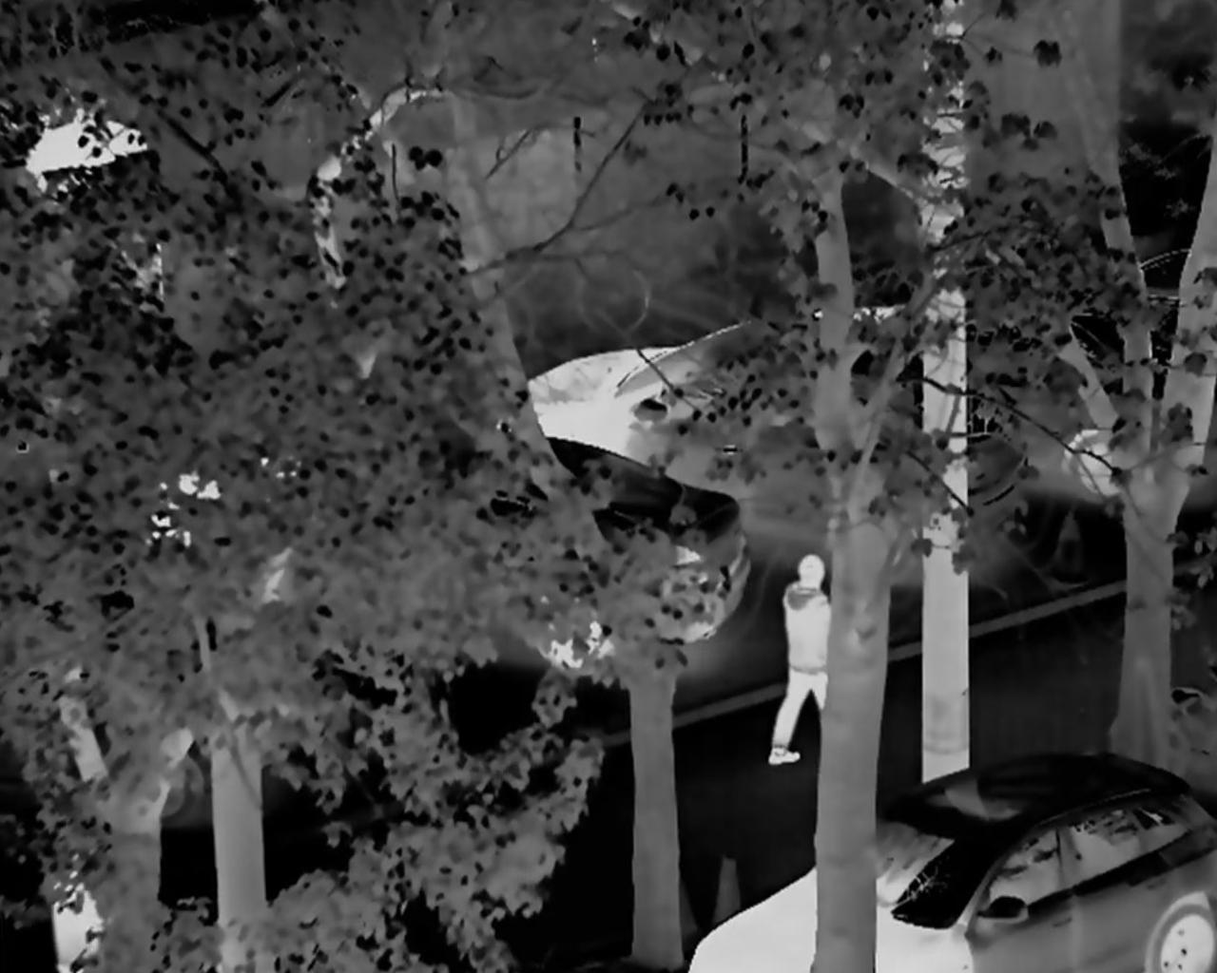person: (765, 548, 861, 774)
